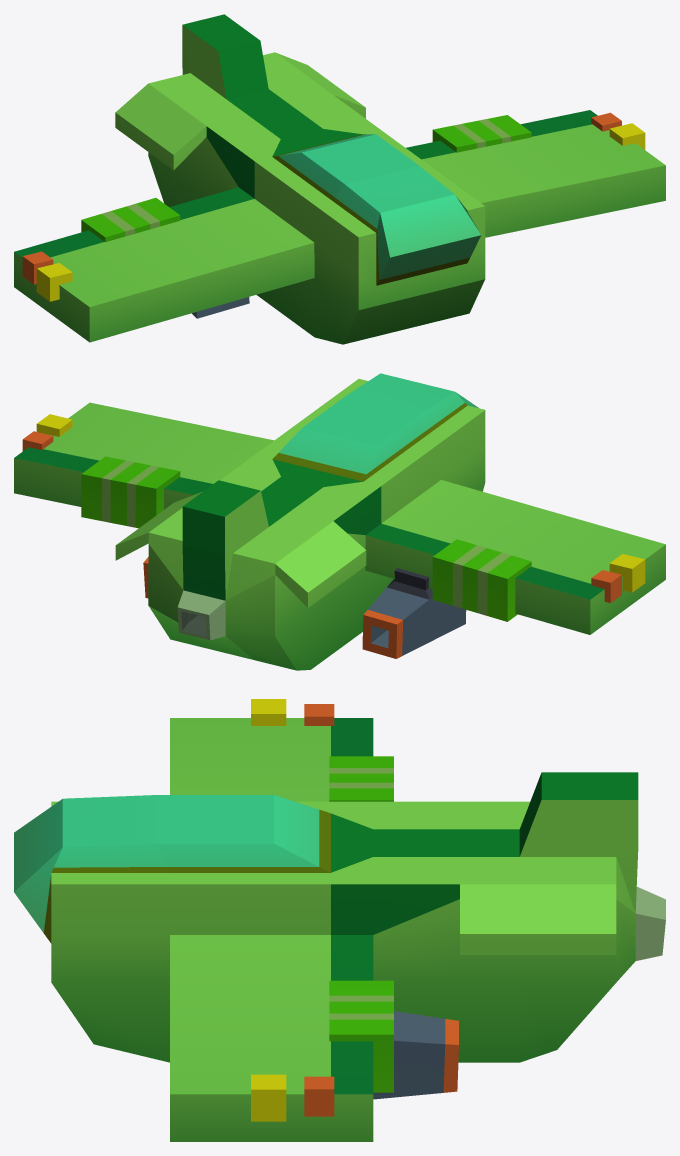
File: зеленый самолет.fbx
3 renders of one model, top to bottom at view 1: azimuth 30°, elevation 25°; view 2: azimuth 150°, elevation 25°; view 3: azimuth 270°, elevation 25°, orthographic. The views are drawn at different scales.
Parts seen in each view (by area): view 1: Cube.011; view 2: Cube.011; view 3: Cube.011.
Part boxes in pixels (x1,y1,x2,y2): Cube.011: [14, 14, 665, 344]; Cube.011: [14, 373, 665, 670]; Cube.011: [14, 699, 665, 1141].
Bounding box in the file's own units: 940 × 264 × 664.
